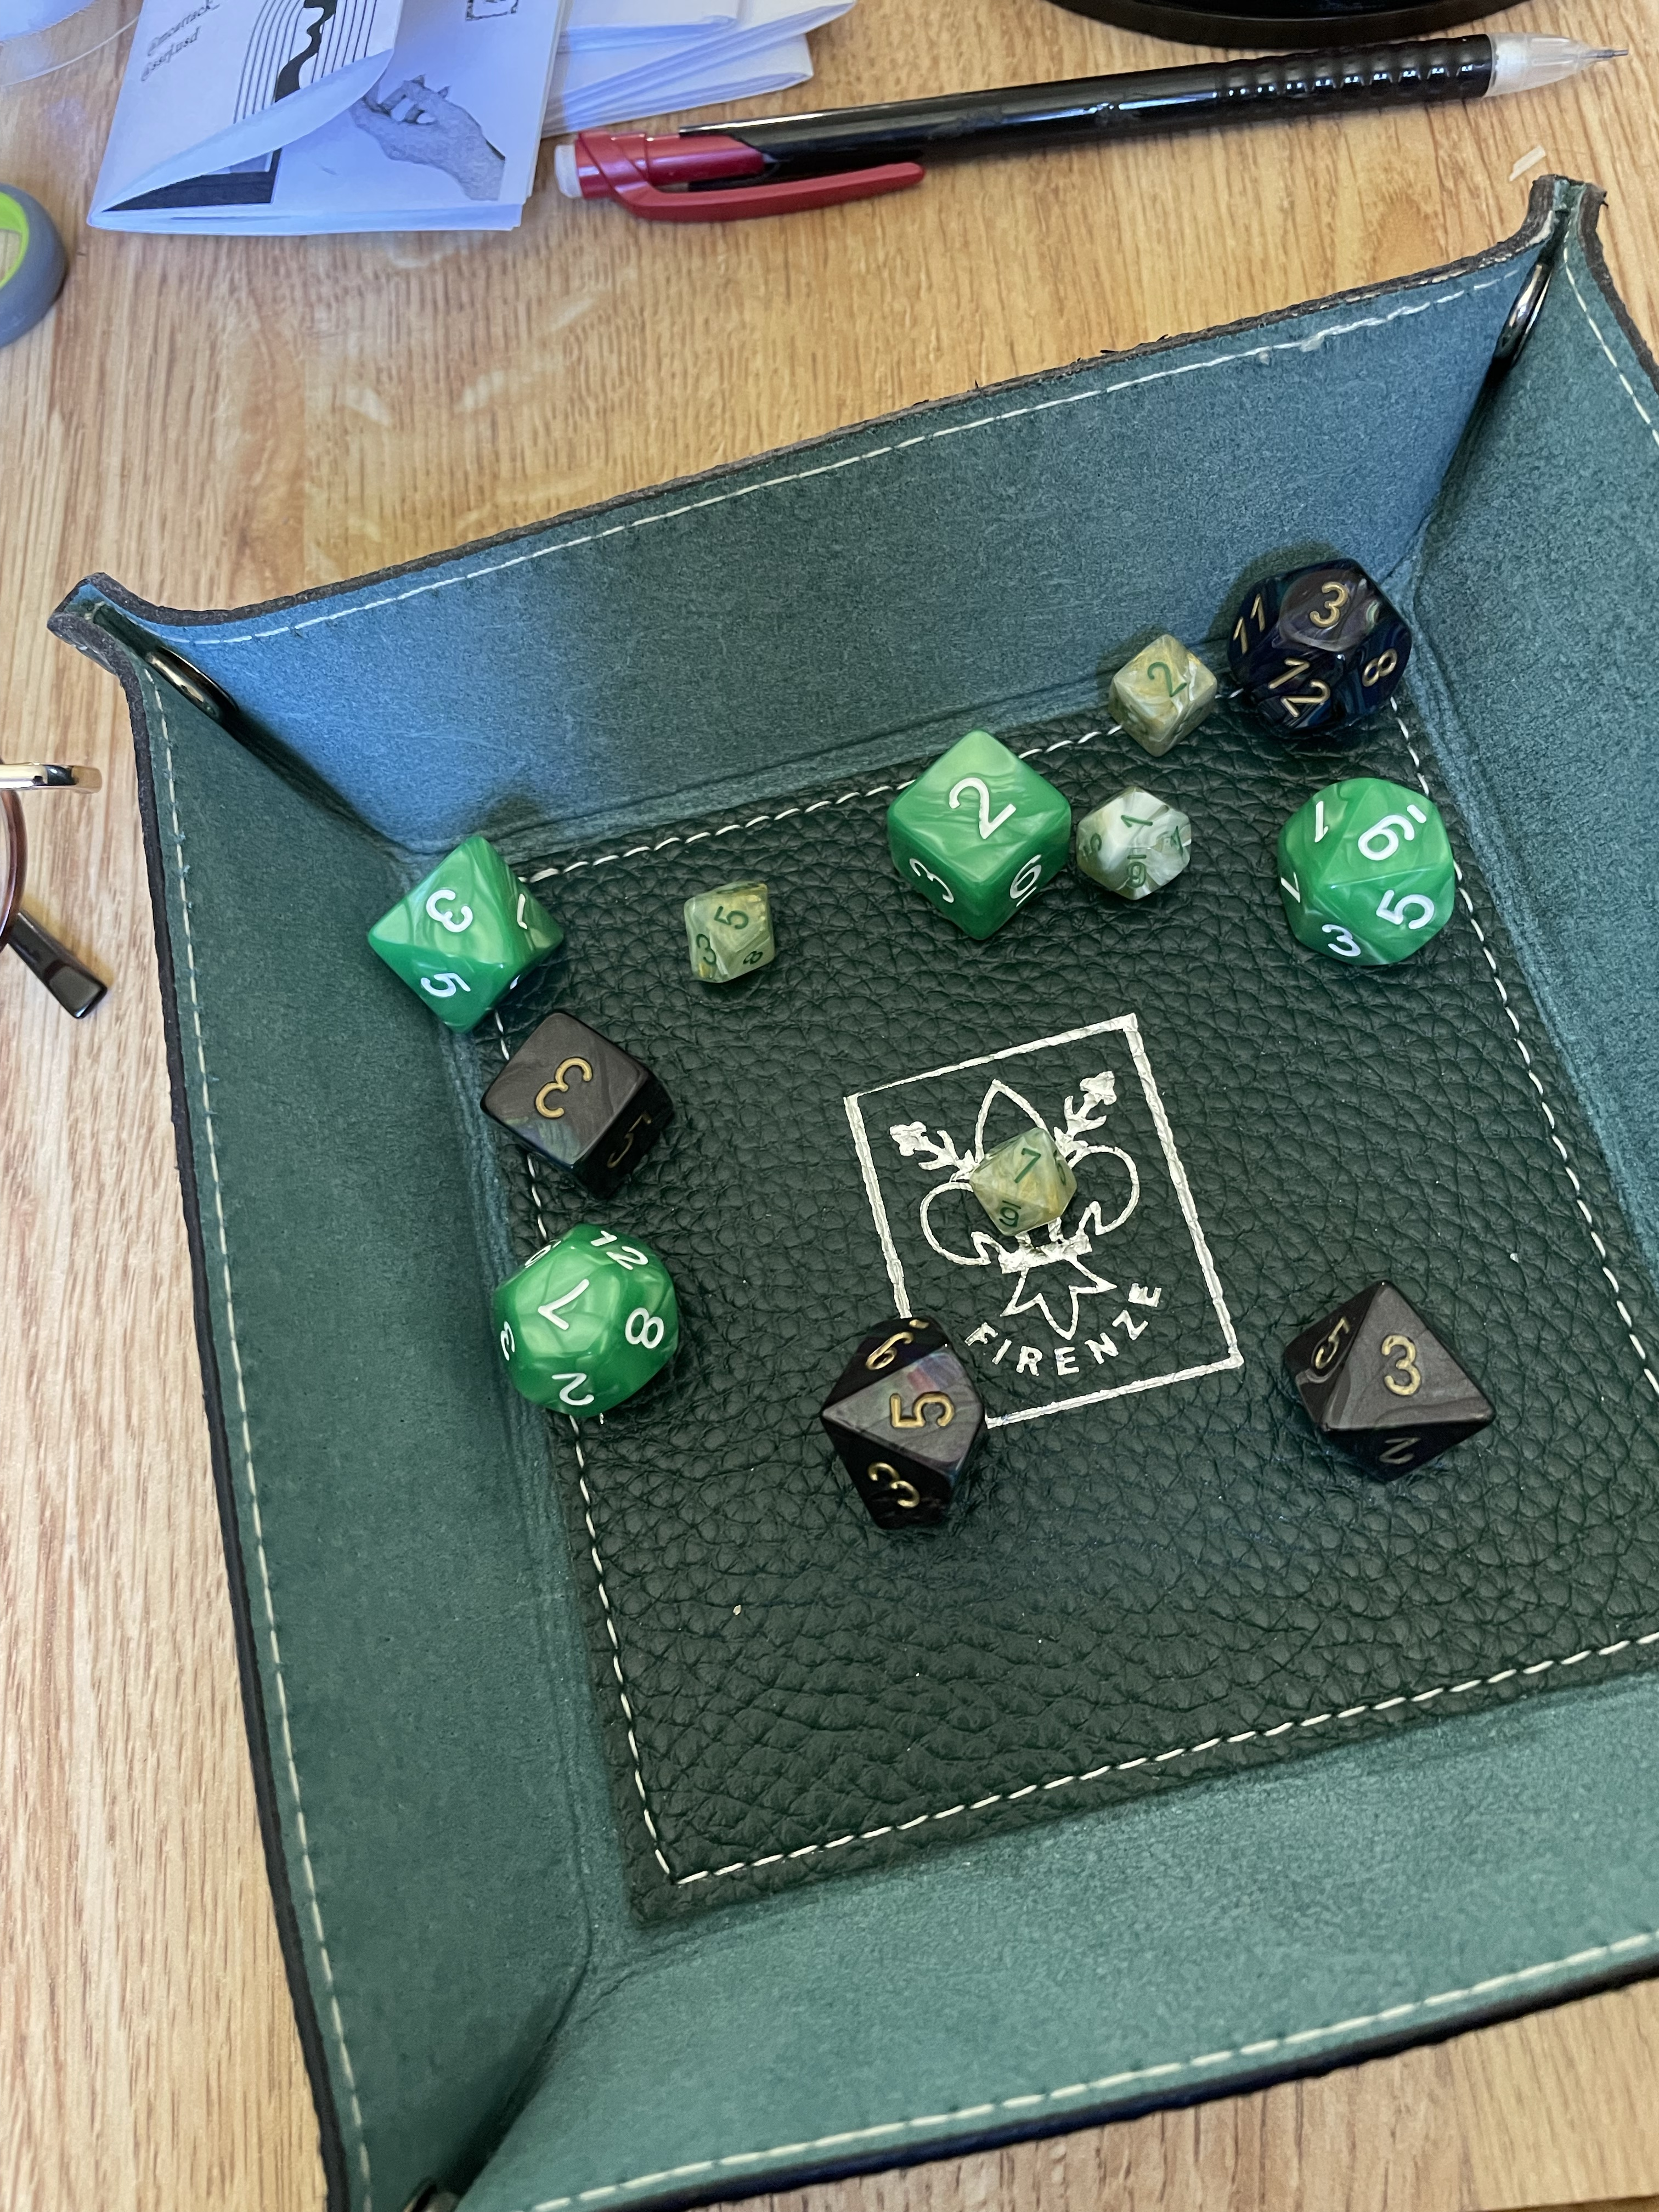five: (802, 1313, 1009, 1547), (666, 862, 795, 991)
nine: (1265, 759, 1480, 989)
one: (1035, 772, 1230, 932)
seven: (458, 1205, 728, 1449)
three: (1222, 1268, 1527, 1500), (343, 815, 587, 1031), (1201, 538, 1438, 745), (457, 1001, 699, 1177)
two: (854, 700, 1086, 939), (1093, 613, 1239, 751)
